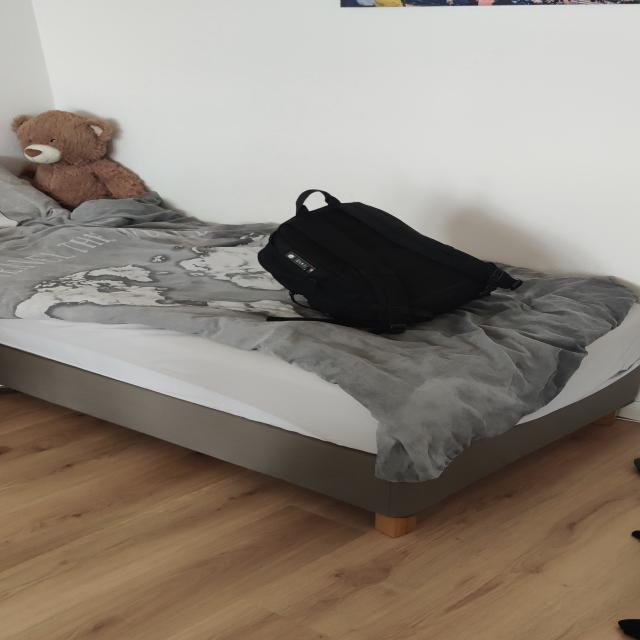backpack: (246, 192, 518, 338)
